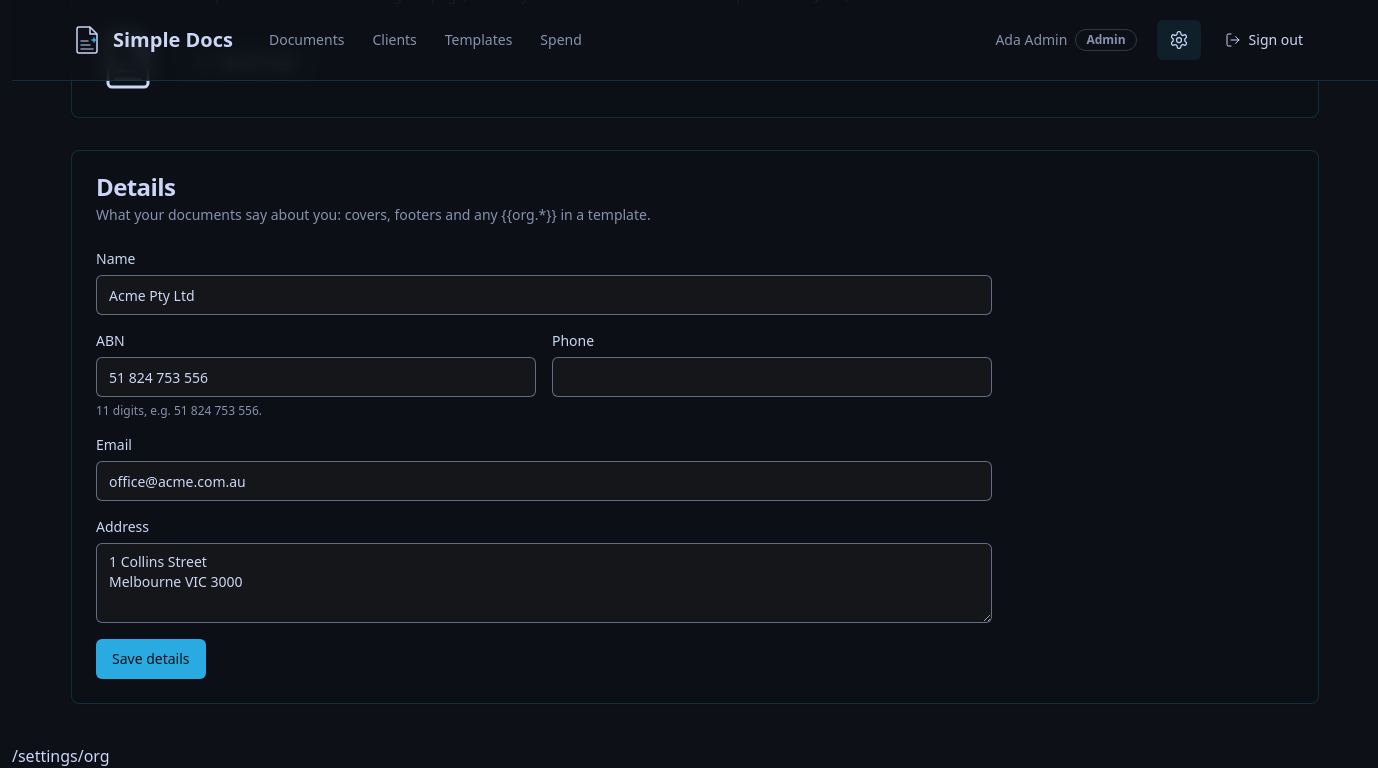
Test: Settings → Organisation › shows an ABN the API refuses beside the field
(page scrolled)
Click the button "Save details": click(151, 659) x1=96 y1=639 x2=206 y2=679
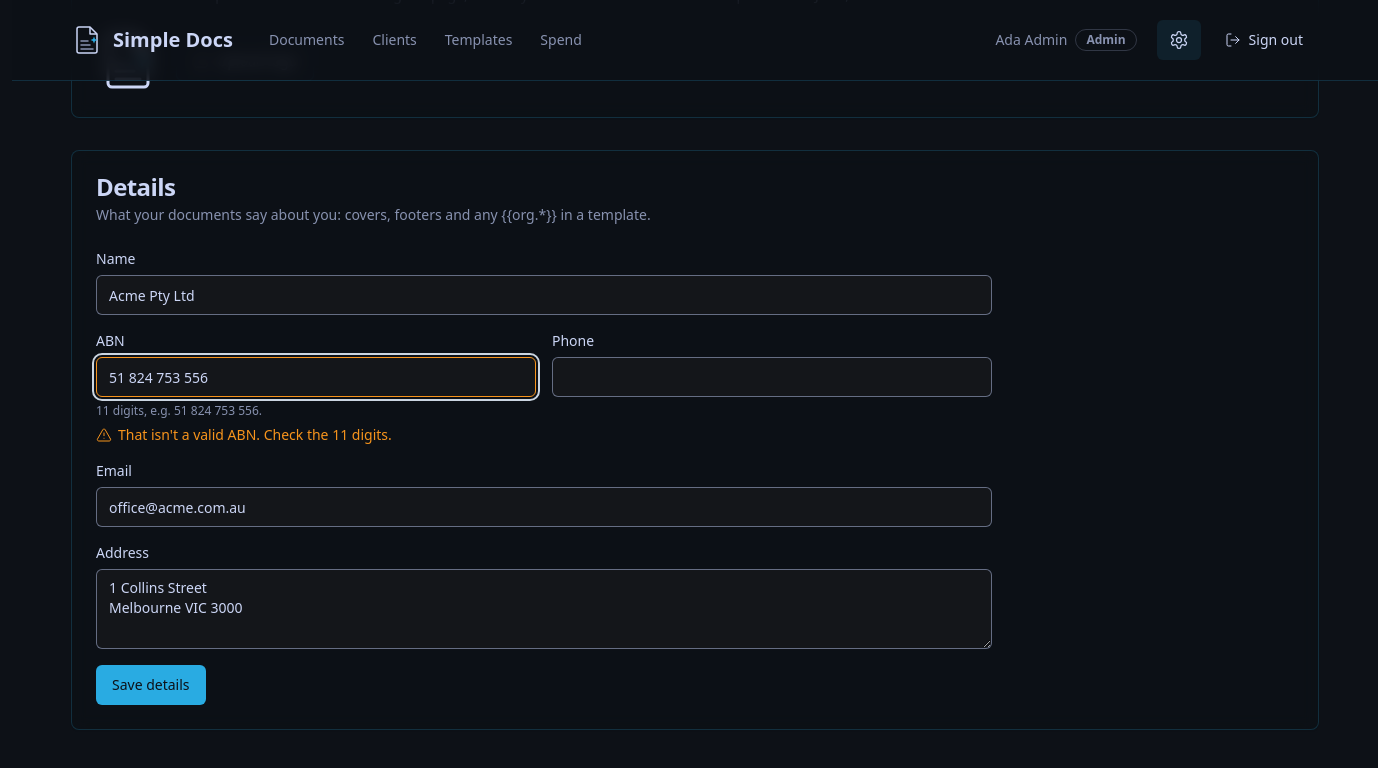
Expected: the text "That isn't a valid ABN. Check the 11 digits." is shown, x1=96 y1=425 x2=392 y2=444
